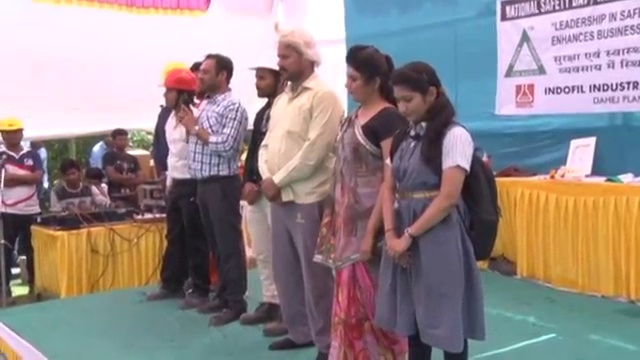helmet: (156, 67, 199, 92), (246, 52, 280, 74), (0, 116, 24, 134)
helmet_off: (385, 57, 448, 126), (341, 43, 393, 107), (267, 28, 320, 82), (192, 52, 235, 101), (59, 157, 82, 191), (111, 131, 129, 151), (100, 132, 114, 150)
helmet_on: (157, 67, 199, 111), (246, 52, 280, 102), (0, 118, 25, 153)
person: (380, 59, 502, 360), (259, 26, 346, 359), (329, 40, 401, 360), (182, 50, 248, 327), (146, 65, 210, 312), (241, 49, 290, 339), (0, 114, 44, 302), (50, 156, 111, 216), (101, 130, 143, 205), (86, 131, 114, 168)
